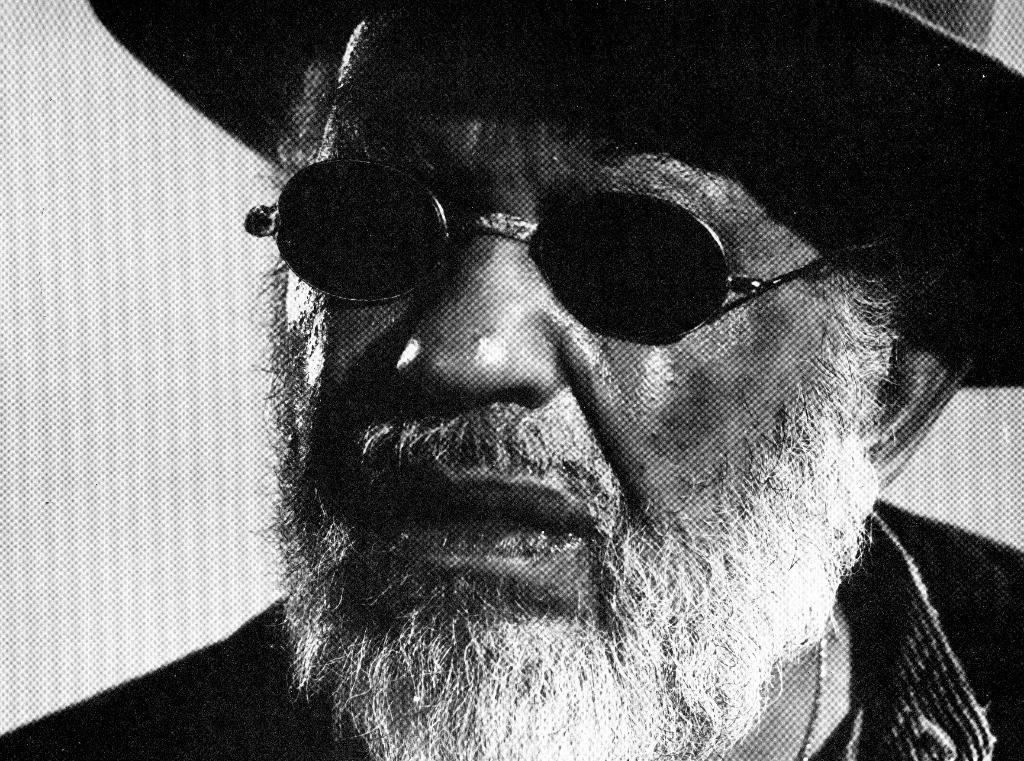Hat: (89, 0, 1023, 389)
